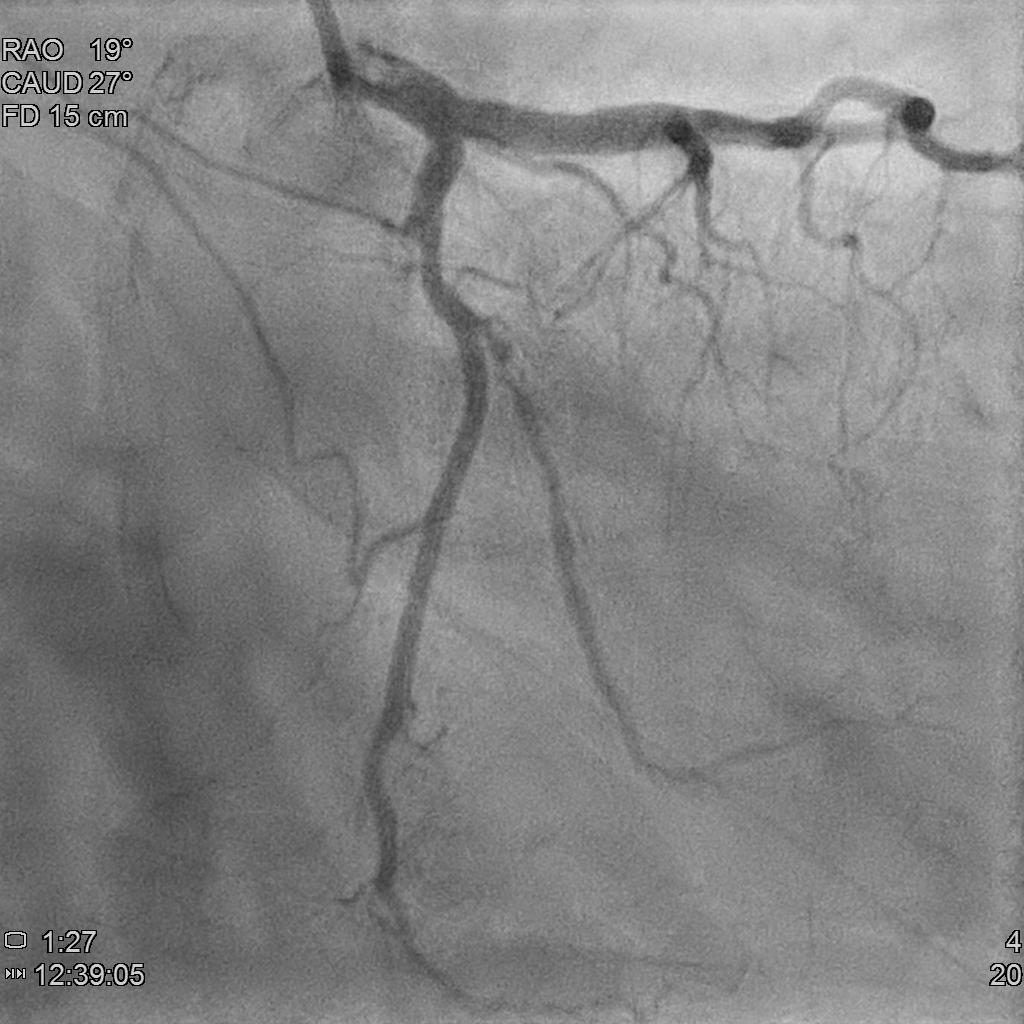block: (338, 714, 427, 819)
